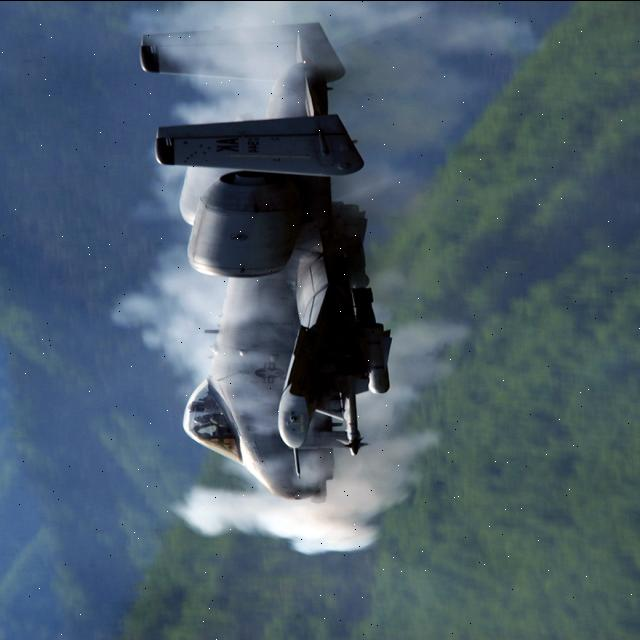A10: (106, 18, 446, 550)
